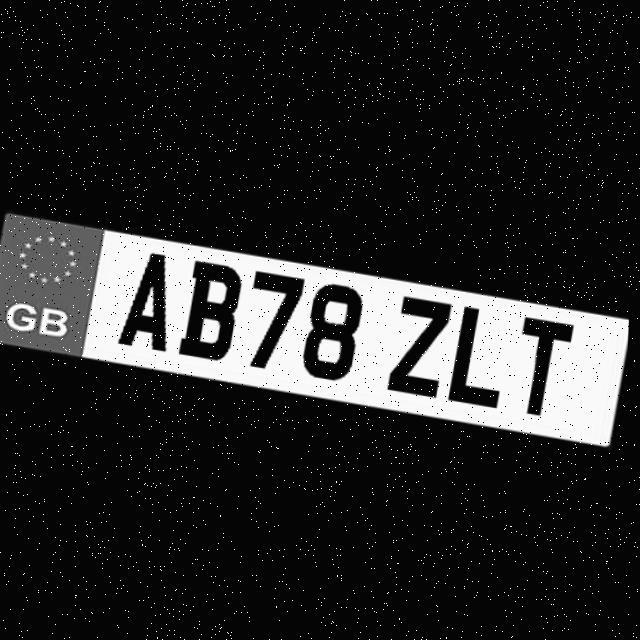license-plates: (0, 213, 629, 444)
